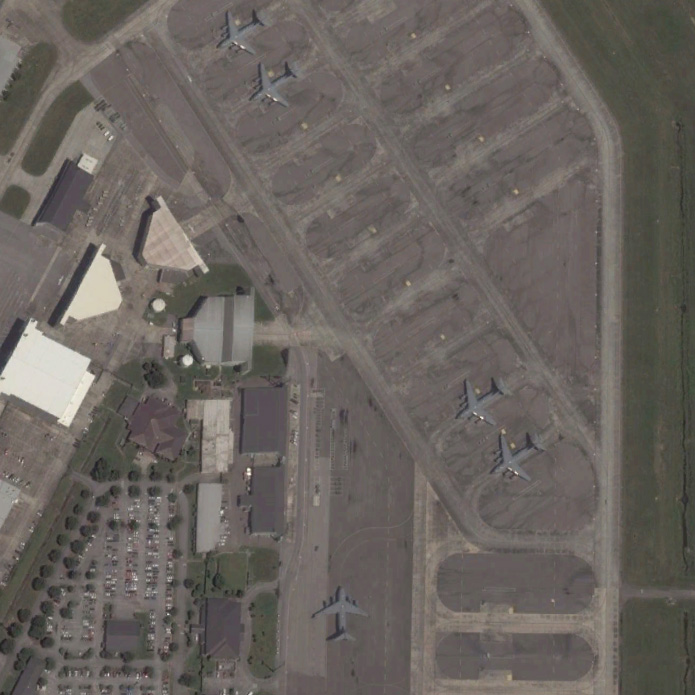A3: (309, 583, 372, 644), (488, 431, 548, 480), (456, 375, 512, 427), (217, 9, 268, 58), (250, 62, 298, 110)
